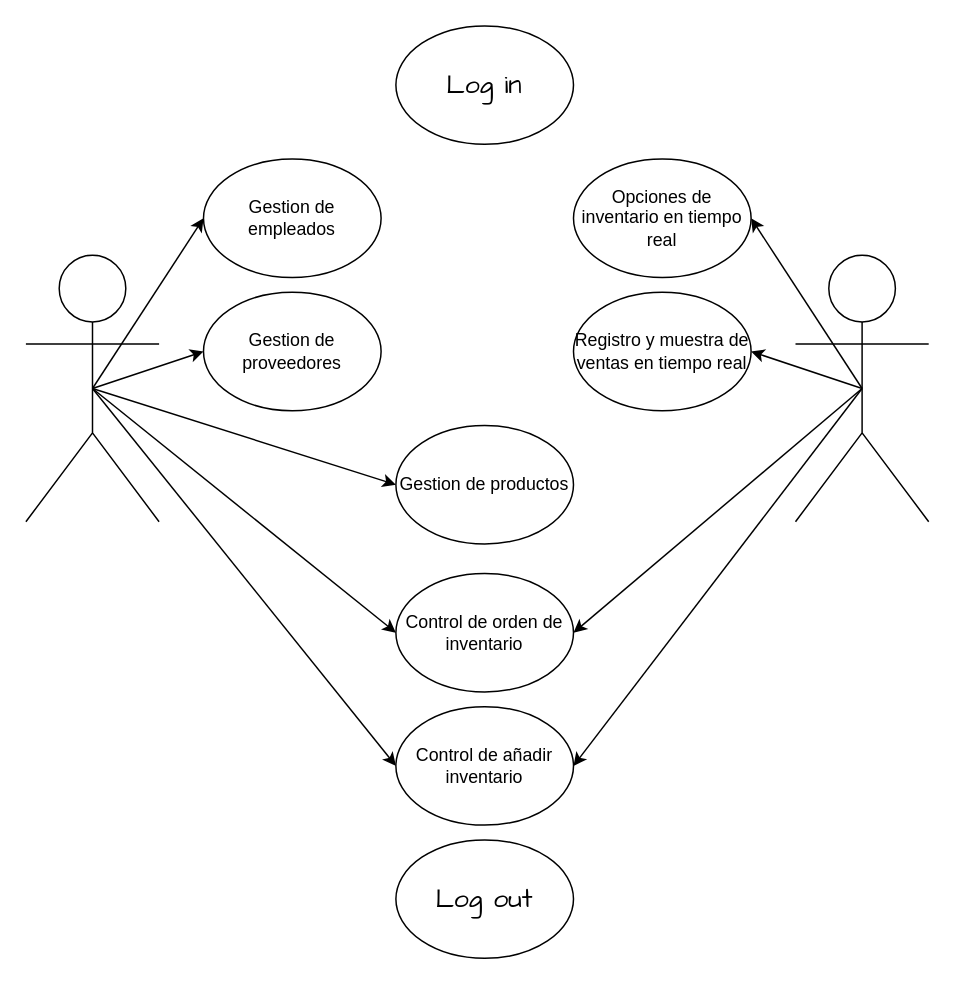
Some shapes in this 955 by 984 pixel diagram are drawn without their labels. Each missing label, with the centre of its shape:
ADMIN: point (91, 388)
EMPLEADO: point (861, 388)
